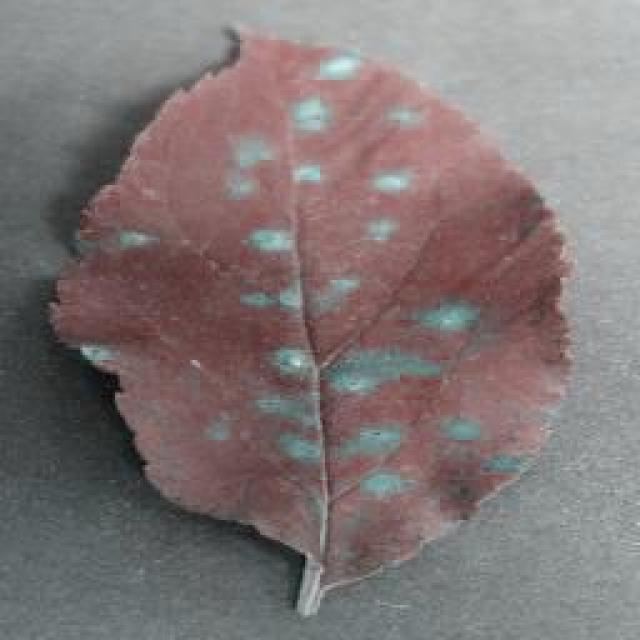apple scab disease: (45, 20, 577, 615)
